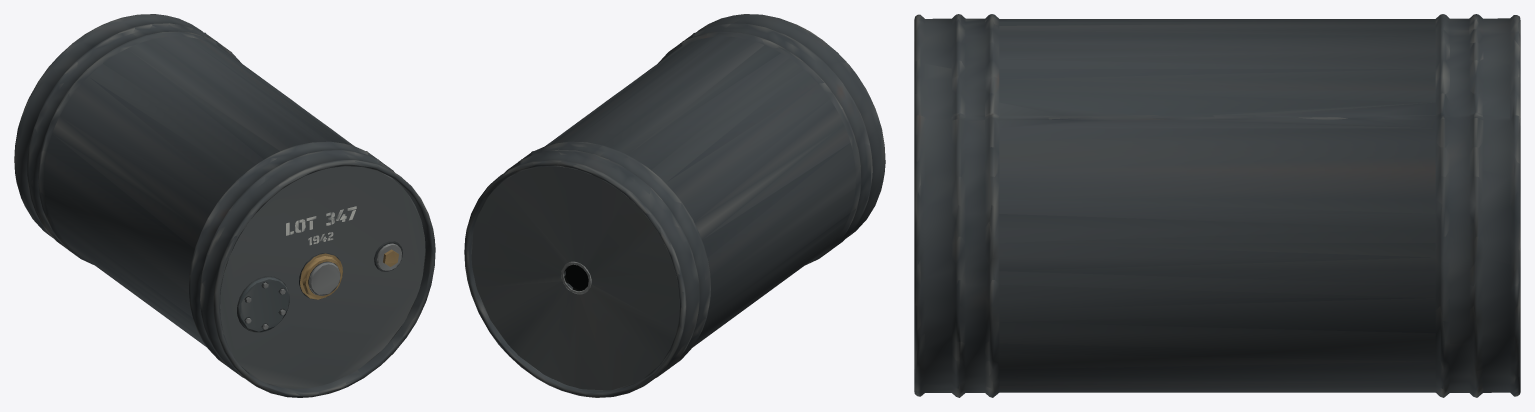
3 renders of one model, left to right at view 1: azimuth 30°, elevation 25°; view 2: azimuth 150°, elevation 25°; view 3: azimuth 270°, elevation 25°, orthographic. The views are drawn at different scales.
Parts seen in each view (by area): view 1: drum_body, end_plate_pistol, access_cover, hydrostatic_pistol, filling_plug, Lot stencil; view 2: drum_body, end_plate_aft, primer_tube; view 3: drum_body.
Part boxes in pixels (<box>): drum_body: <box>14,14,435,397</box>; end_plate_pistol: <box>220,166,425,388</box>; access_cover: <box>237,276,289,332</box>; hydrostatic_pistol: <box>299,253,342,299</box>; filling_plug: <box>374,241,402,271</box>; Lot stencil: <box>286,206,356,235</box>; drum_body: <box>464,14,885,397</box>; end_plate_aft: <box>471,166,679,390</box>; primer_tube: <box>561,261,591,294</box>; drum_body: <box>914,14,1520,397</box>.
Bounding box in the file's own units: 0.45 × 0.4501 × 0.7103.
8 materials, 1 textured.
